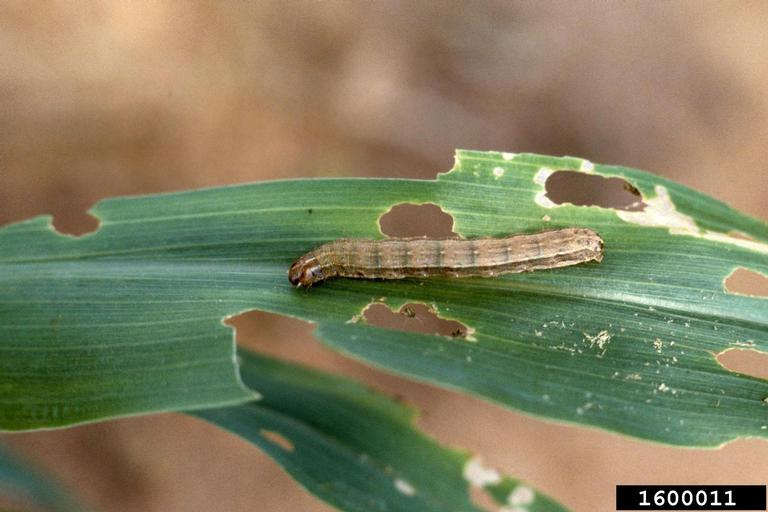Armyworm: (261, 225, 610, 298)
